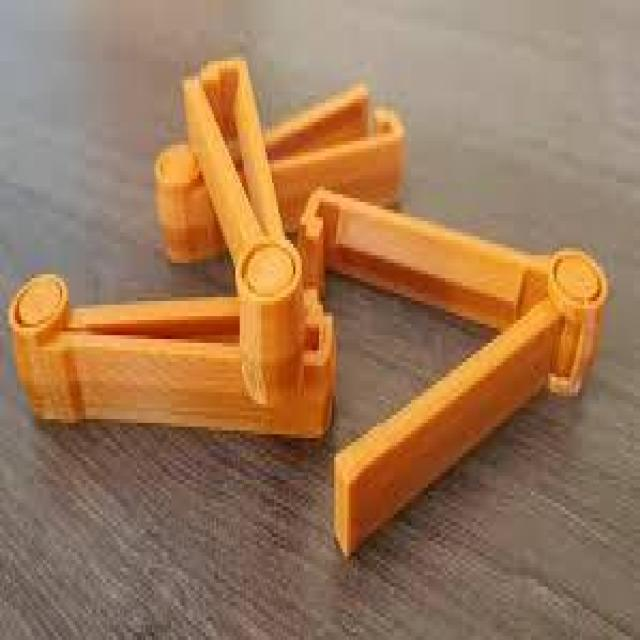Without deffect: (12, 44, 618, 606)
